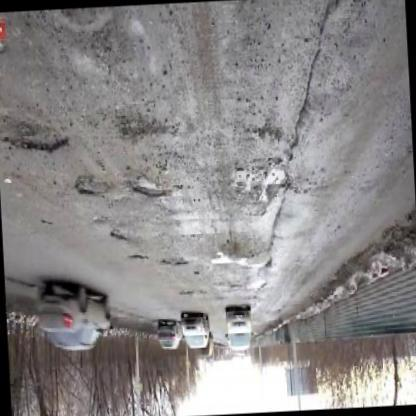pothole: (7, 124, 73, 154), (231, 165, 294, 191), (133, 172, 169, 200), (119, 112, 150, 138), (78, 173, 110, 198)
